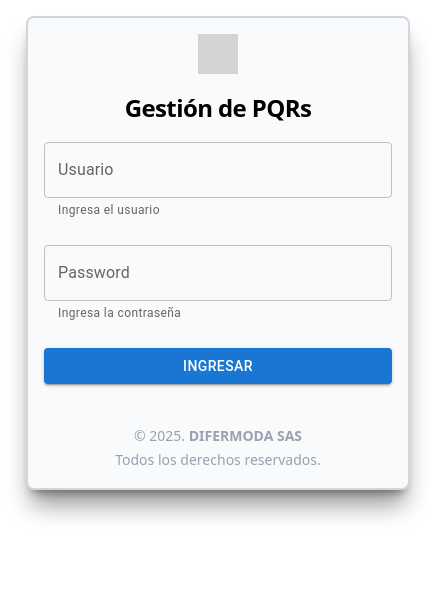
Login E2E › muestra validación si se envía vacío
Click the button "Ingresar".
click(218, 367)  # box [44, 348, 392, 385]
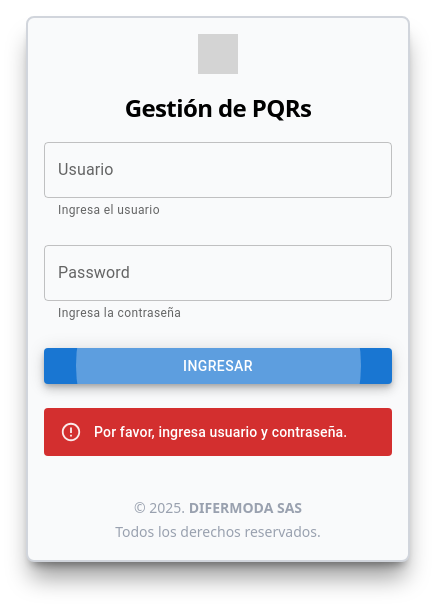
Now the text "Por favor, ingresa usuario y contraseña." is shown, box [94, 424, 347, 440]
